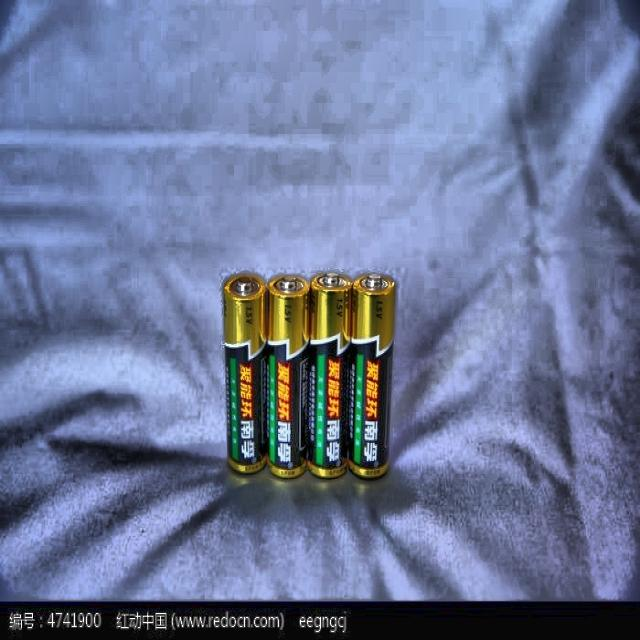Non-Valuable Waste - Batteries: (349, 273, 395, 478), (222, 273, 268, 473), (308, 271, 352, 477), (268, 275, 309, 478)
